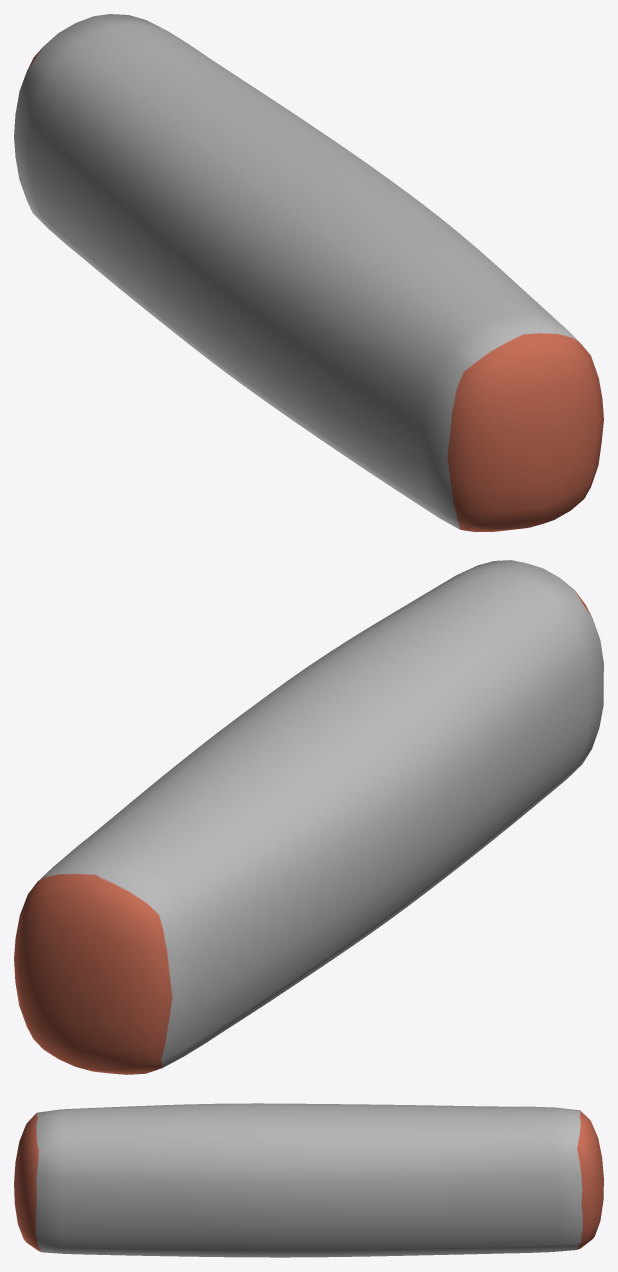
Rendered from Snake_M.fbx.
3 renders of one model, top to bottom at view 1: azimuth 30°, elevation 25°; view 2: azimuth 150°, elevation 25°; view 3: azimuth 270°, elevation 25°, orthographic. The views are drawn at different scales.
Visible parts, largest first — view 1: Snake_M; view 2: Snake_M; view 3: Snake_M.
Part boxes in pixels (<box>): Snake_M: <box>14,14,603,531</box>; Snake_M: <box>14,560,603,1074</box>; Snake_M: <box>14,1103,603,1257</box>.
Bounding box in the file's own units: 81.63 × 80 × 331.
